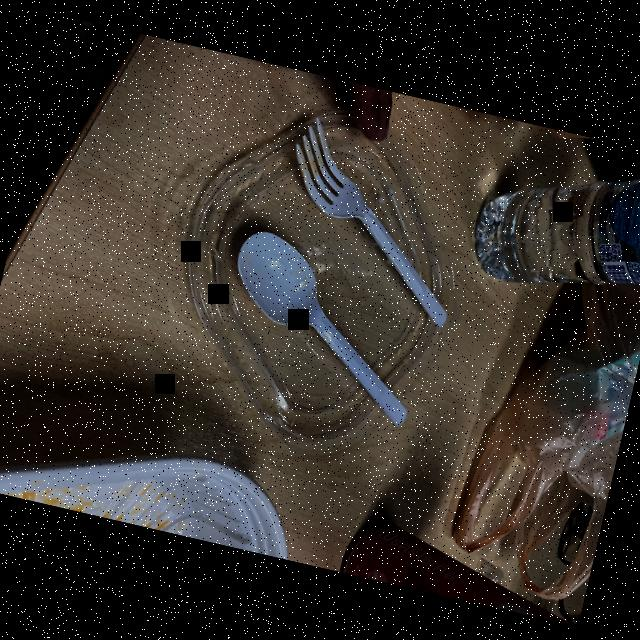plastic_spoon: (199, 210, 446, 433), (256, 110, 492, 334)
